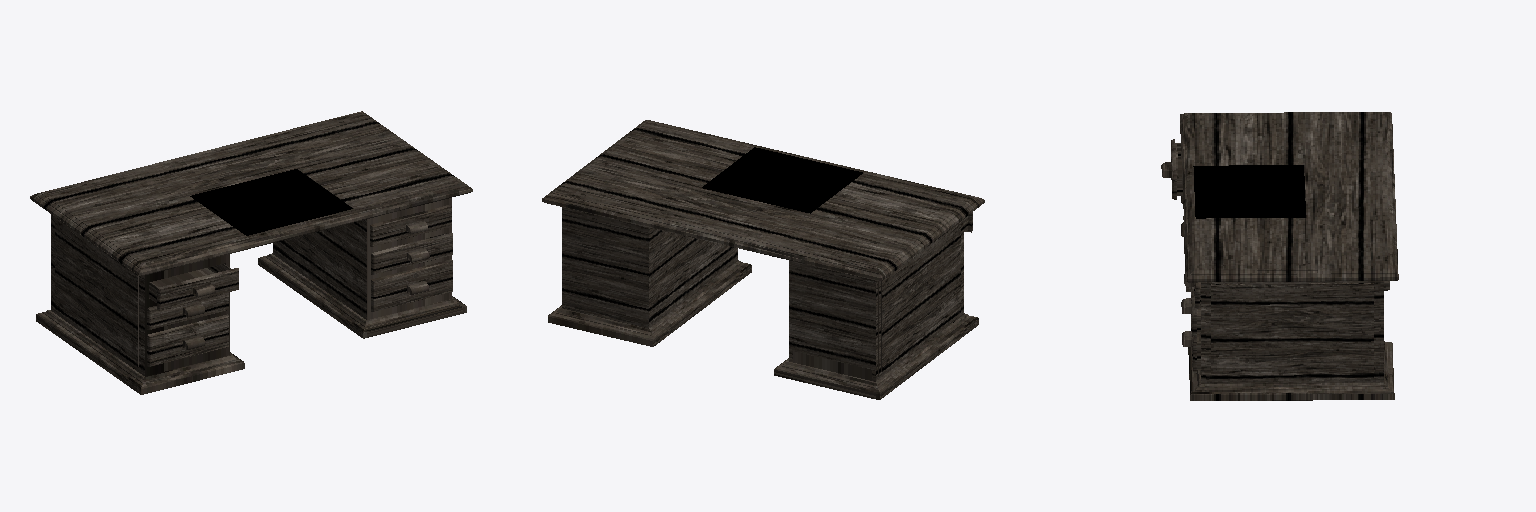
3 views of the same model, side by side, from view 1: azimuth 30°, elevation 25°; view 2: azimuth 150°, elevation 25°; view 3: azimuth 270°, elevation 25° (orthographic).
Parts seen in each view (by area): view 1: desk:Mesh, desk:DESK, desk:DESKpolySurface1cajon5, desk:DESKpolySurface1cajon2, desk:DESKcajoncajon, desk:DESKcajoncajon4, desk:DESKcajoncajon3, desk:DESKcajoncajon1; view 2: desk:Mesh, desk:DESK; view 3: desk:Mesh, desk:DESK, desk:DESKcajoncajon.
Boxes of the visible parts, x1,y1,x2,y2 form: desk:Mesh: [30, 111, 472, 394]; desk:DESK: [190, 169, 352, 235]; desk:DESKpolySurface1cajon5: [371, 259, 452, 311]; desk:DESKpolySurface1cajon2: [147, 314, 228, 366]; desk:DESKcajoncajon: [149, 264, 238, 309]; desk:DESKcajoncajon4: [371, 233, 452, 274]; desk:DESKcajoncajon3: [370, 205, 451, 246]; desk:DESKcajoncajon1: [147, 292, 228, 329]; desk:Mesh: [542, 120, 984, 399]; desk:DESK: [702, 147, 862, 213]; desk:Mesh: [1180, 112, 1398, 400]; desk:DESK: [1193, 165, 1305, 218]; desk:DESKcajoncajon: [1171, 139, 1182, 199].
Bounding box in the file's own units: 2.03 × 0.7372 × 1.23.
Materials: 1 (1 with a texture image).